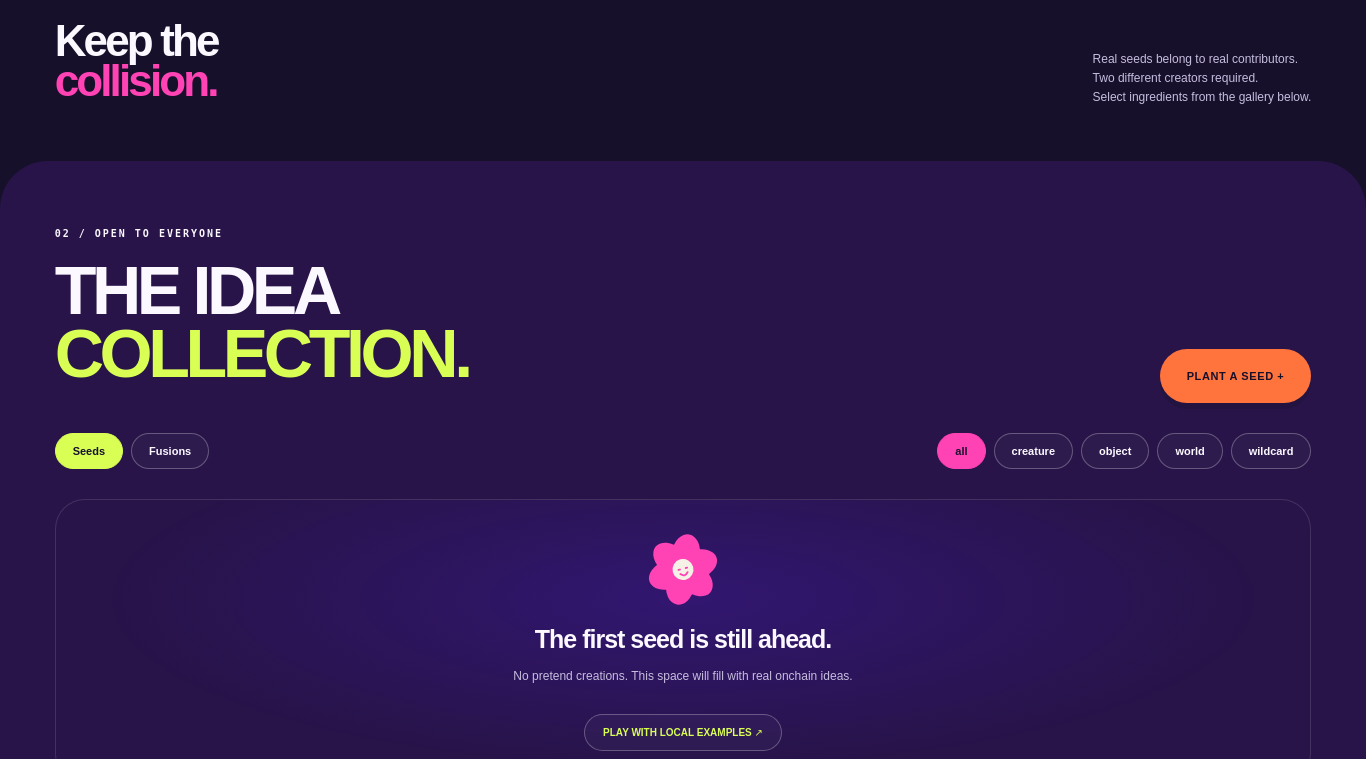
Test: opens accessible seed form for drafting
The width and height of the screenshot is (1366, 759).
(page scrolled)
Click the button "PLANT A SEED +": (1236, 376) [1160,349,1311,403]
(page scrolled)
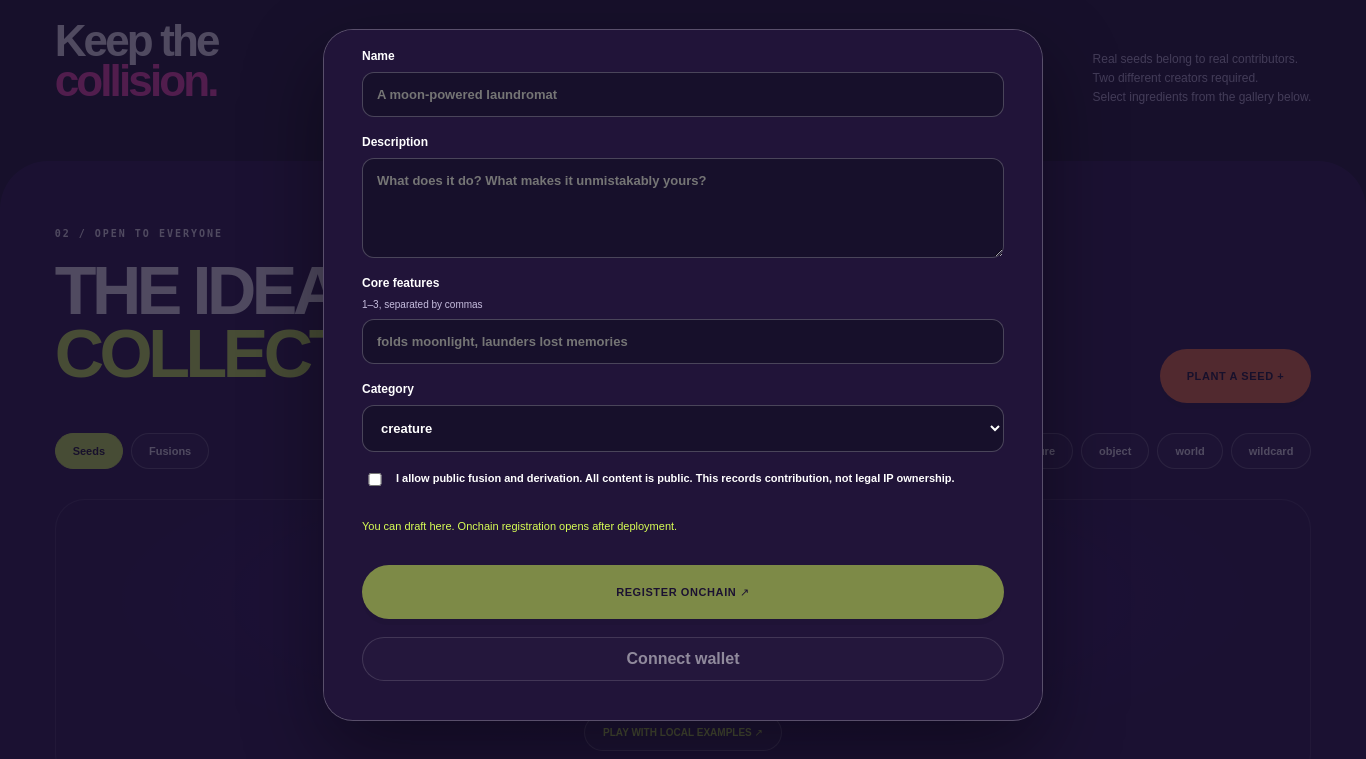
Expected: the field labelled "Name" is shown, [362,72,1004,117]
Expected: the button "REGISTER ONCHAIN ↗" is disabled, [362,565,1004,619]
